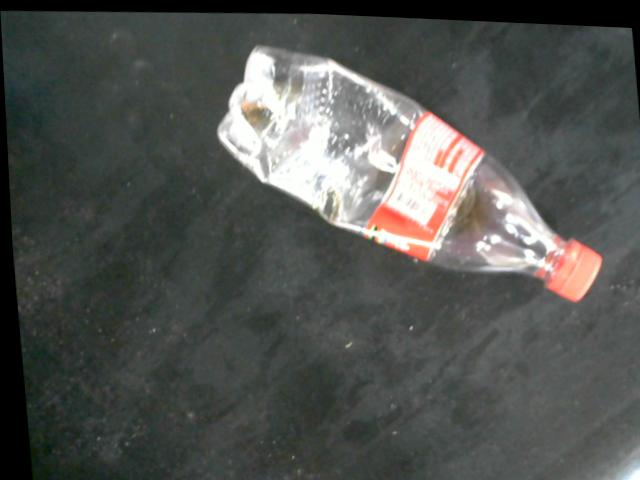bottle: (216, 41, 603, 300)
